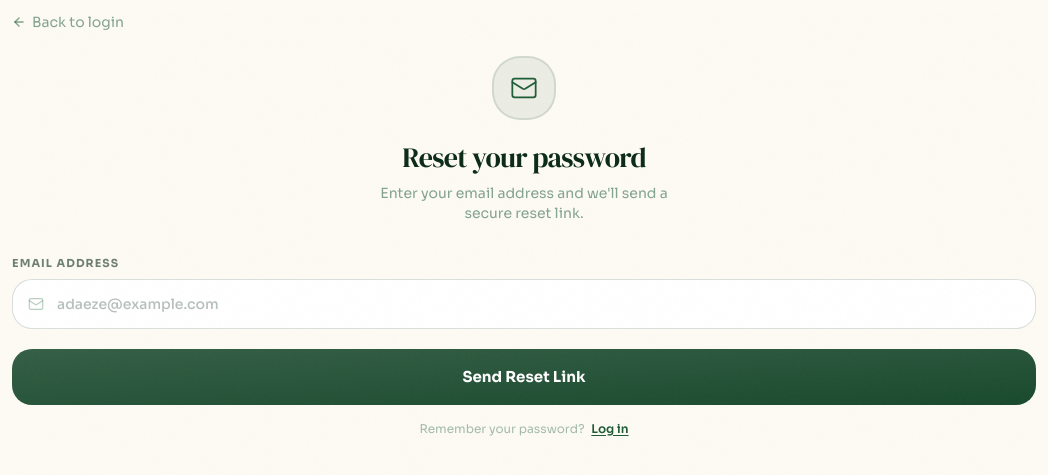
Test case: ForgotPassword › Validation › clears error when user starts typing
Click the button "Send Reset Link": {"x": 524, "y": 377} [12,349,1036,405]
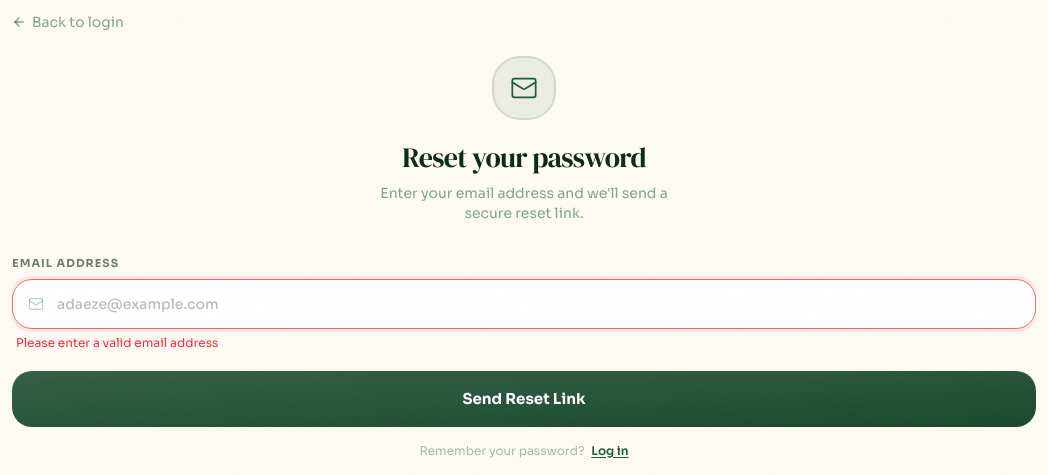
Expected: the text "Please enter a valid email address" is shown, [16,335,218,350]
In the field with placeholder "adaeze@example.com": {"x": 524, "y": 304} [12,279,1036,329], type "a"
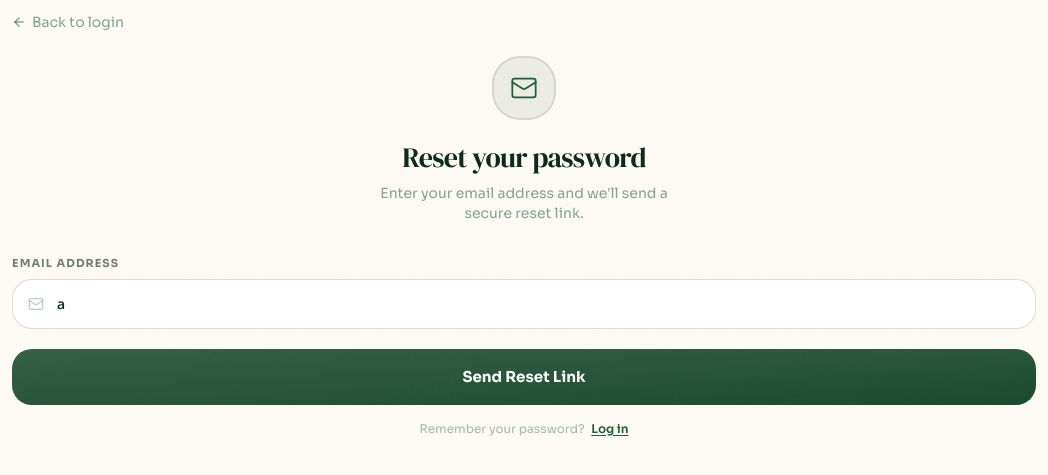
Expected: the text "Please enter a valid email address" is gone
